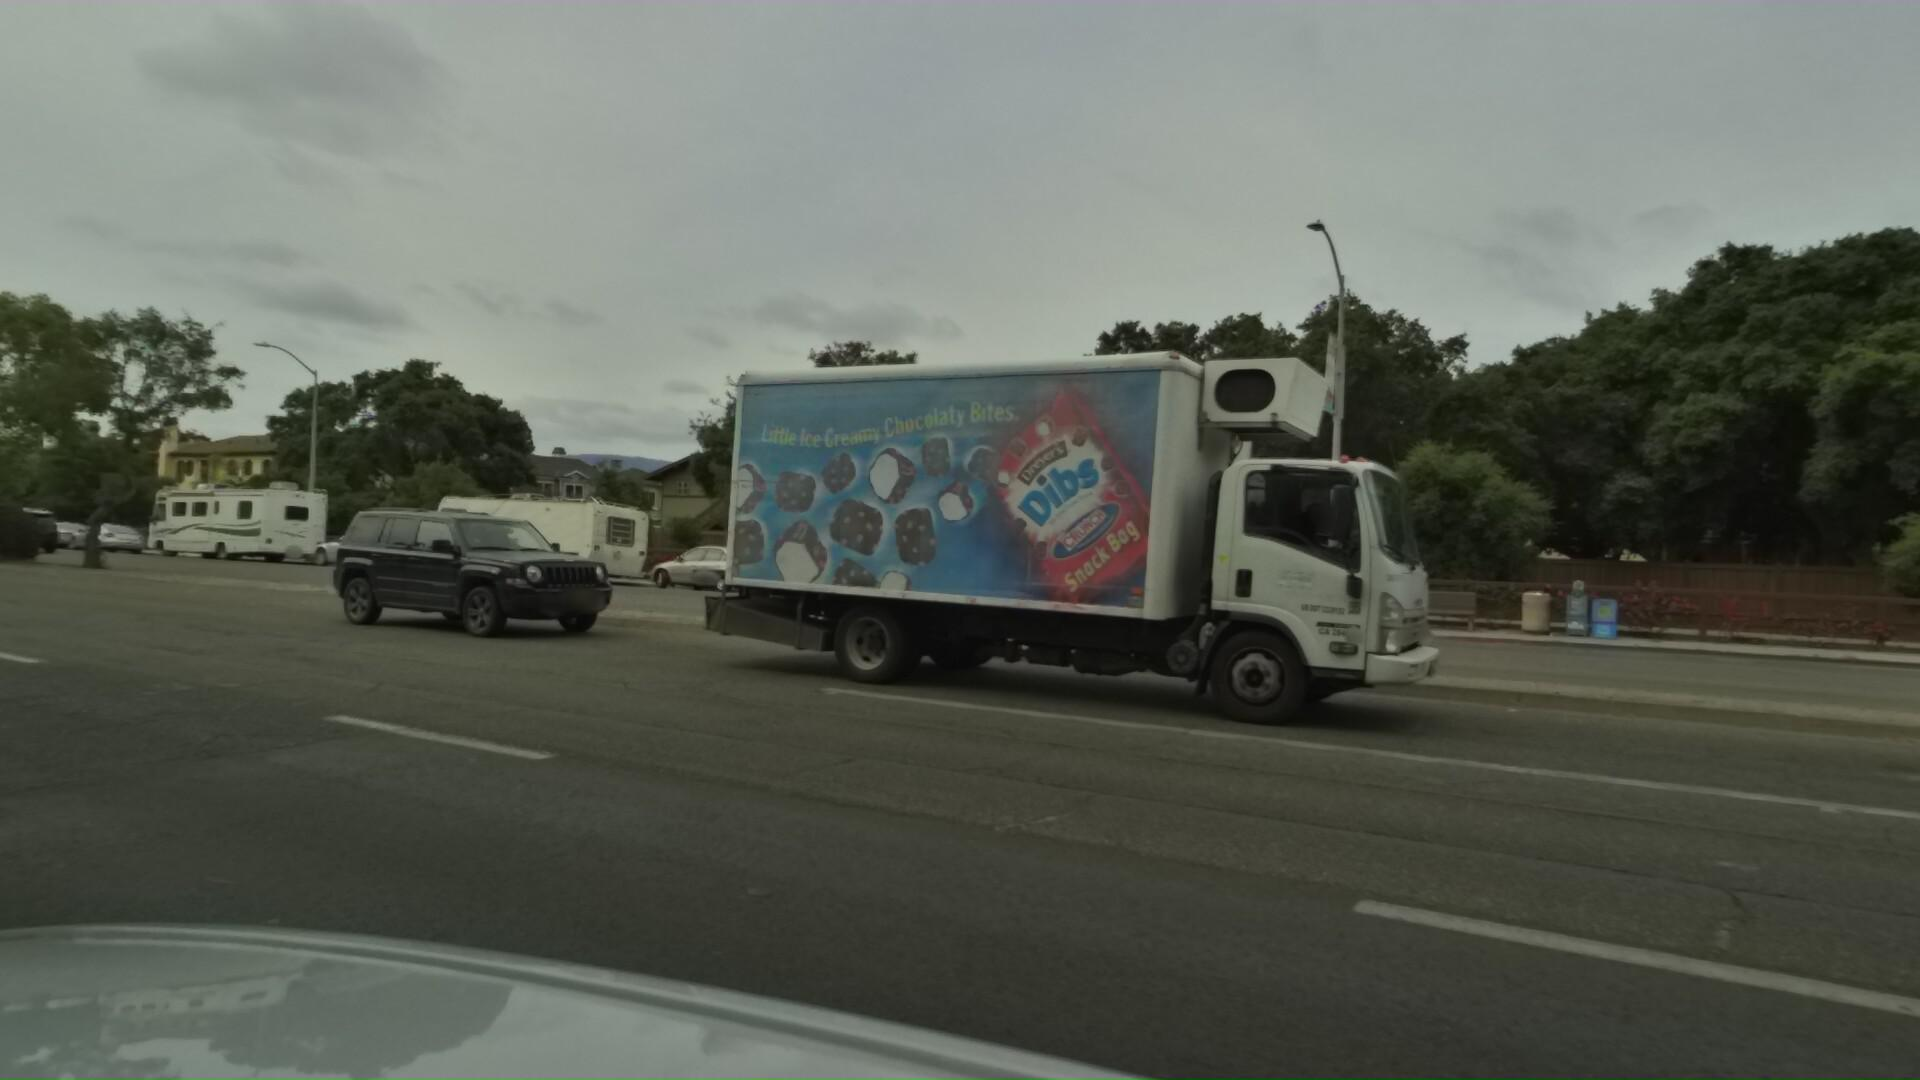car: (280, 505, 603, 651), (725, 520, 1004, 636), (1850, 559, 1920, 956), (952, 529, 1205, 633), (621, 543, 771, 597), (294, 527, 418, 578), (55, 520, 148, 563), (0, 508, 59, 555), (11, 524, 94, 555), (0, 508, 55, 553)
other_vehicle: (393, 492, 644, 592), (132, 479, 338, 574)
truck: (642, 314, 1415, 758)
